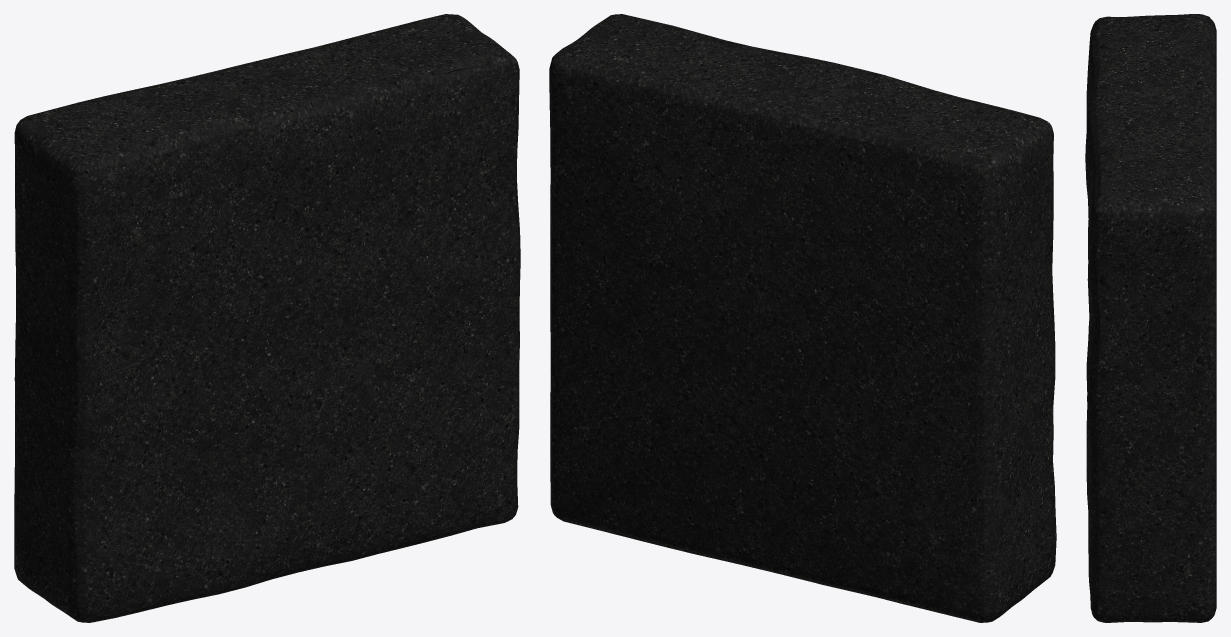
File: tak-upright-black.glb
The picture shows the model from 3 angles, left to right: view 1: azimuth 30°, elevation 25°; view 2: azimuth 150°, elevation 25°; view 3: azimuth 270°, elevation 25°; orthographic projection. The views are drawn at different scales.
Visible parts, largest first — view 1: tak-upright-black; view 2: tak-upright-black; view 3: tak-upright-black.
Boxes of the visible parts, bbox=[...] form: tak-upright-black: bbox=[14, 14, 520, 622]; tak-upright-black: bbox=[549, 14, 1056, 622]; tak-upright-black: bbox=[1085, 14, 1216, 622].
Size of the model in its own units: 0.0283 by 0.0283 by 0.00789.
1 material, 1 textured.
